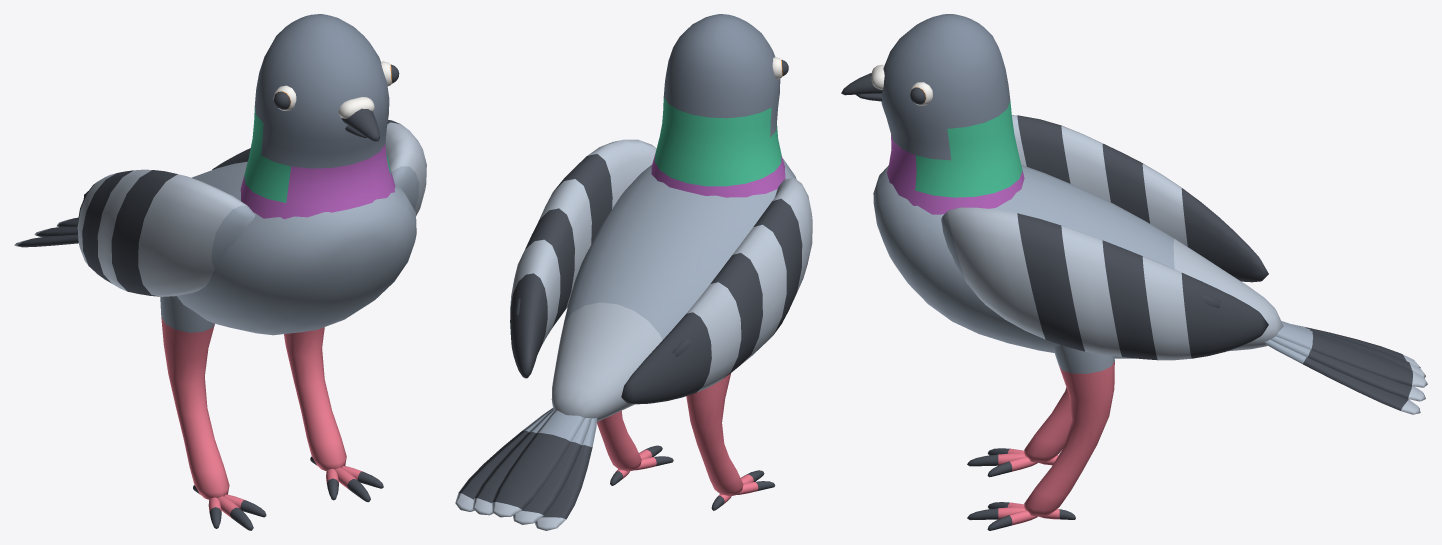
Rendered from Pigeon.fbx.
3 renders of one model, left to right at view 1: azimuth 30°, elevation 25°; view 2: azimuth 150°, elevation 25°; view 3: azimuth 270°, elevation 25°, orthographic. The views are drawn at different scales.
Parts seen in each view (by area): view 1: Pigeon, WingR, WingL; view 2: Pigeon, WingR, WingL; view 3: Pigeon, WingL, WingR.
Part boxes in pixels (<box>): Pigeon: <box>14,14,416,530</box>; WingR: <box>77,169,255,296</box>; WingL: <box>212,120,426,215</box>; Pigeon: <box>455,14,796,530</box>; WingR: <box>621,177,812,404</box>; WingL: <box>510,139,656,378</box>; Pigeon: <box>841,14,1427,530</box>; WingL: <box>941,207,1268,360</box>; WingR: <box>1012,115,1268,282</box>.
Size of the model in its own units: 14.58 by 24.78 by 27.67.
